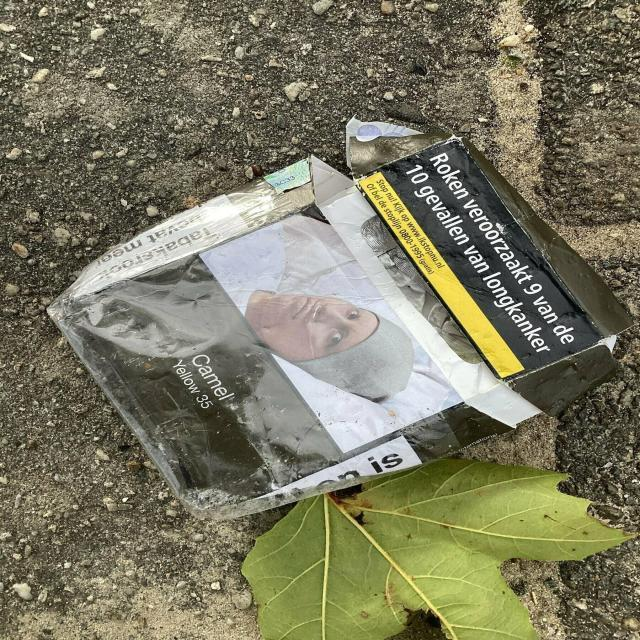Paper: (40, 108, 640, 526)
